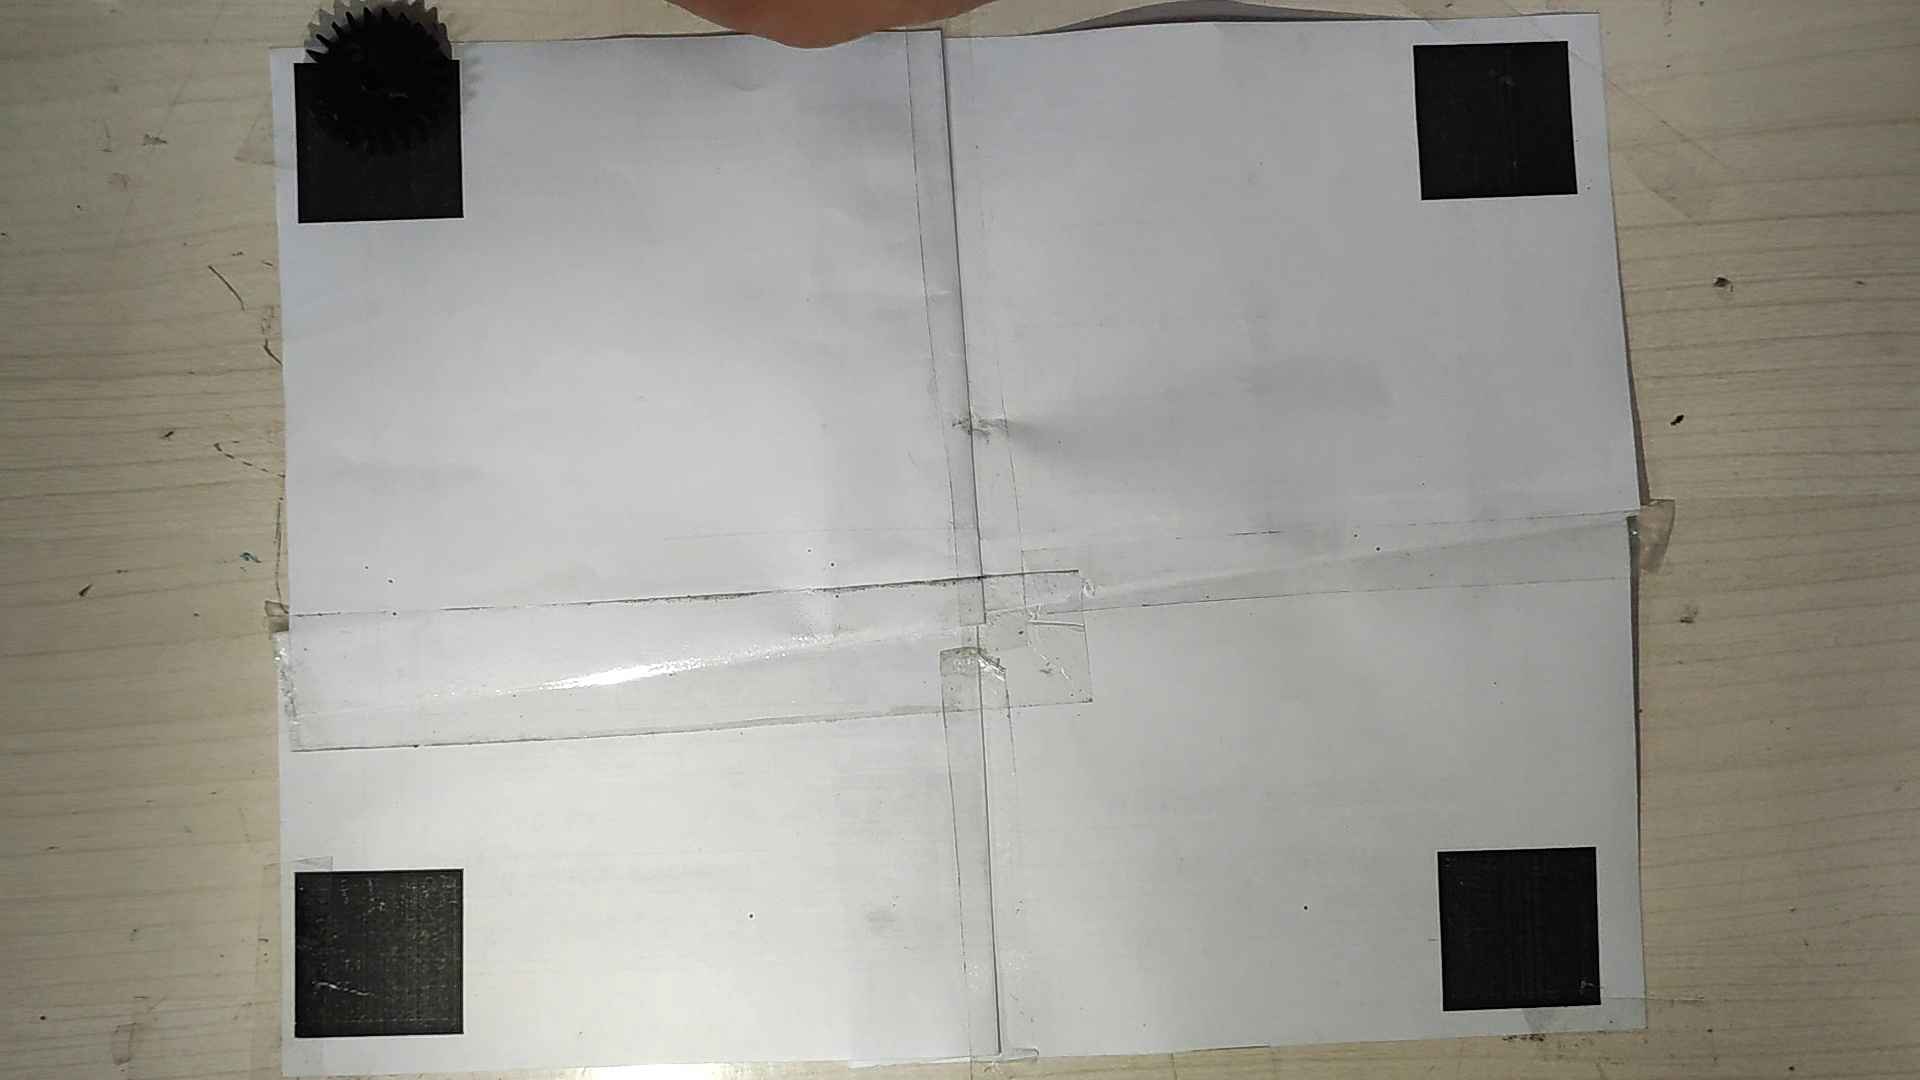Gear: (300, 0, 462, 138)
